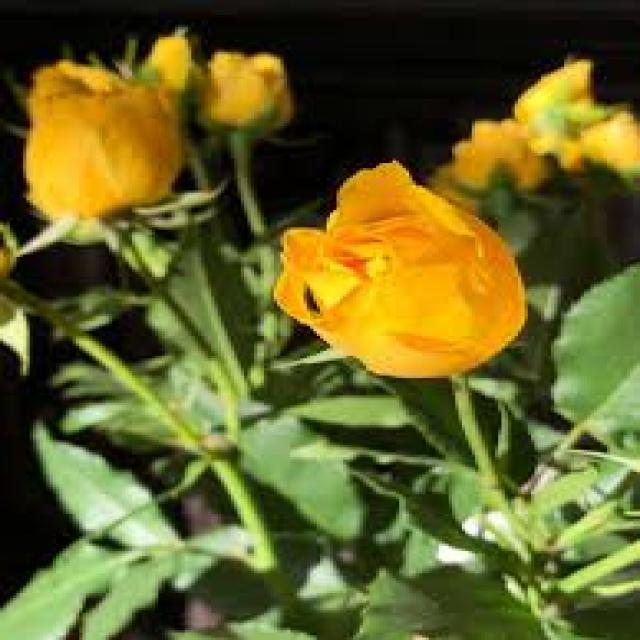Bloomed: (267, 158, 528, 381)
